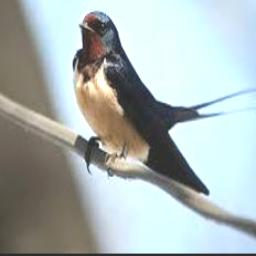Swallow: (73, 10, 256, 196)
